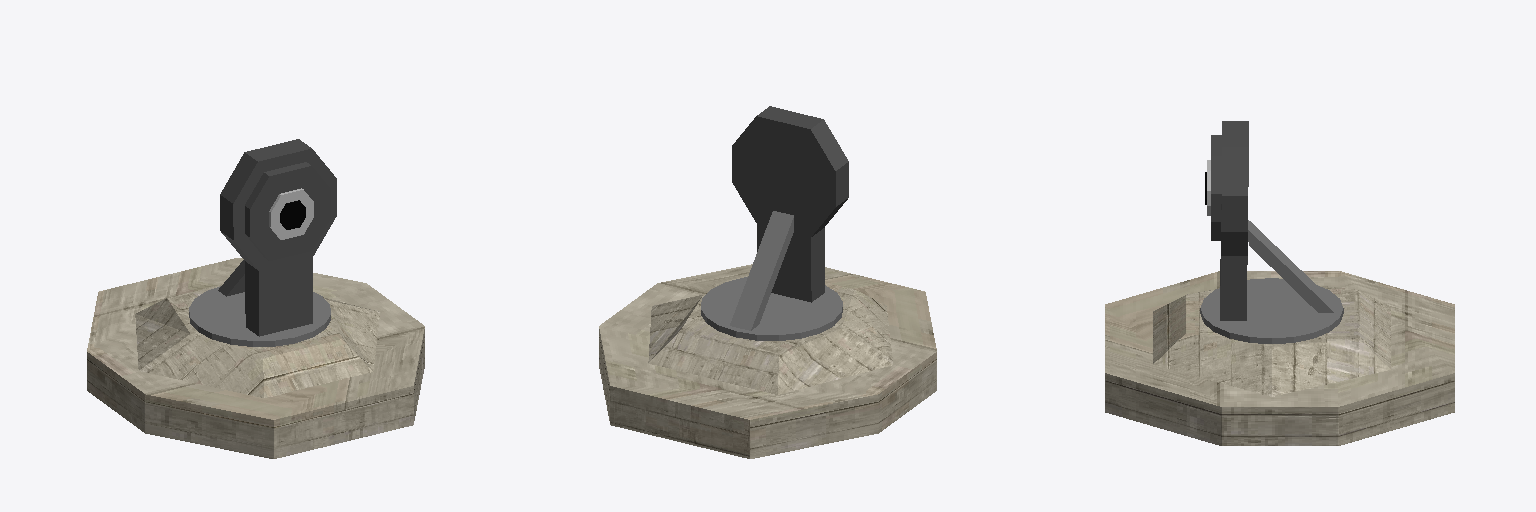
The picture shows the model from 3 angles: view 1: azimuth 30°, elevation 25°; view 2: azimuth 150°, elevation 25°; view 3: azimuth 270°, elevation 25°; orthographic projection.
Visible parts, largest first — view 1: Base1, pCylinder1 pCube12, pCylinder1; view 2: Base1, pCylinder1 pCube12, pCylinder1; view 3: Base1, pCylinder1 pCube12, pCylinder1.
Boxes of the visible parts, x1=… form: Base1: x1=87, y1=258, x2=424, y2=458; pCylinder1 pCube12: x1=218, y1=139, x2=336, y2=336; pCylinder1: x1=189, y1=286, x2=330, y2=346; Base1: x1=599, y1=264, x2=936, y2=458; pCylinder1 pCube12: x1=730, y1=106, x2=848, y2=330; pCylinder1: x1=701, y1=277, x2=842, y2=340; Base1: x1=1105, y1=271, x2=1454, y2=445; pCylinder1 pCube12: x1=1205, y1=121, x2=1334, y2=320; pCylinder1: x1=1200, y1=278, x2=1343, y2=343.
Size of the model in its own units: 8.03 by 6.7 by 8.73.
5 materials, 1 textured.